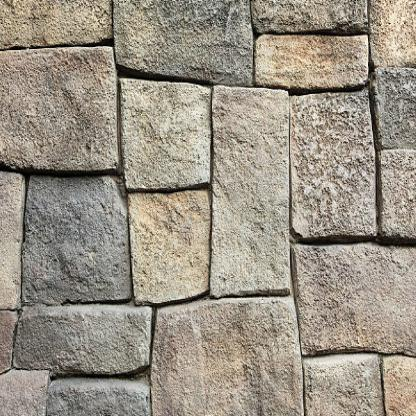Sedimentary_Limestone: (206, 81, 296, 298), (148, 297, 302, 415), (0, 39, 118, 187), (17, 158, 128, 313), (286, 82, 381, 245), (295, 233, 415, 351), (96, 0, 253, 80), (117, 74, 212, 195), (239, 19, 378, 101), (134, 176, 214, 304), (10, 316, 157, 376), (39, 368, 144, 415)
